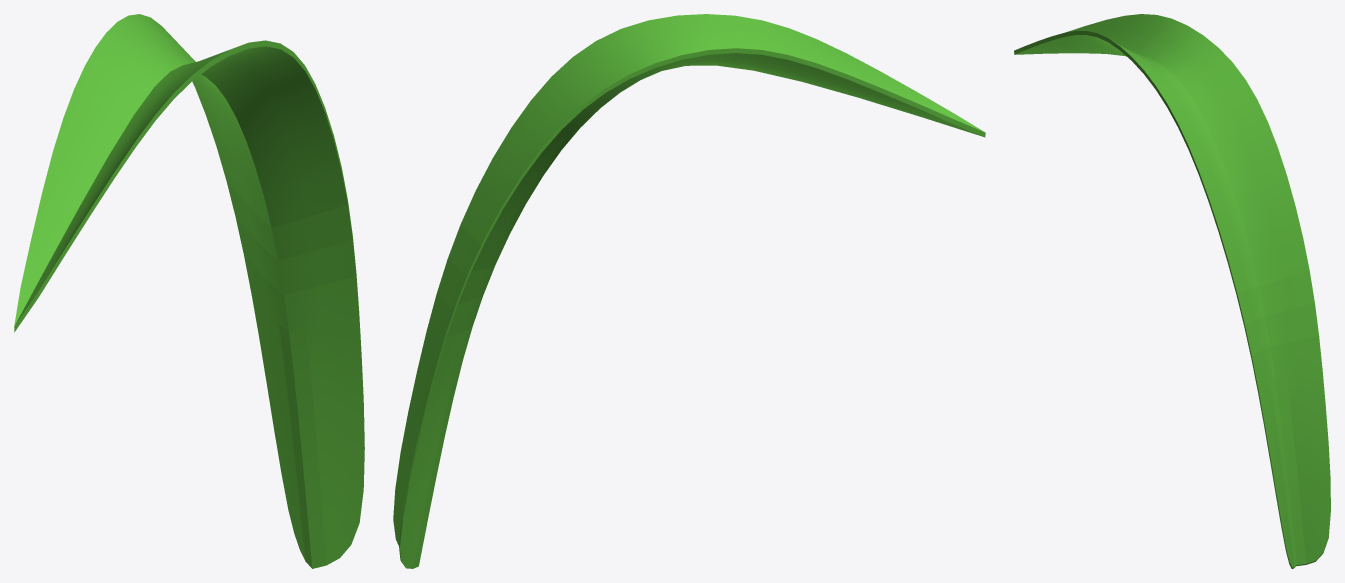
The model's file is rumput-5.fbx.
3 views of the same model, side by side, from view 1: azimuth 30°, elevation 25°; view 2: azimuth 150°, elevation 25°; view 3: azimuth 270°, elevation 25° (orthographic). The views are drawn at different scales.
Parts seen in each view (by area): view 1: Plane.003; view 2: Plane.003; view 3: Plane.003.
Boxes of the visible parts, x1,y1,x2,y2 form: Plane.003: (14,14,364,568); Plane.003: (393,14,985,568); Plane.003: (1014,14,1330,568).
Size of the model in its own units: 178 by 206 by 132.
